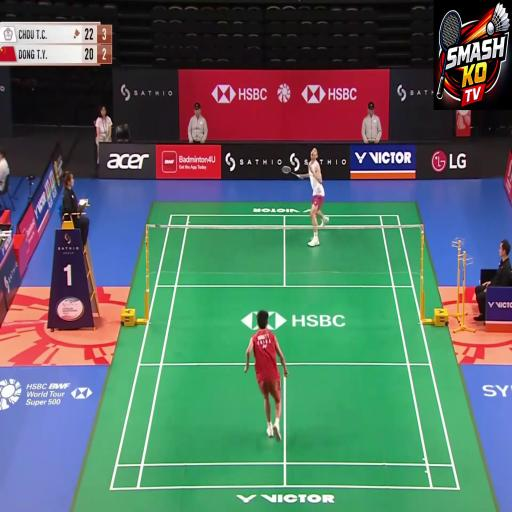player: (217, 275, 289, 469), (297, 115, 342, 279)
